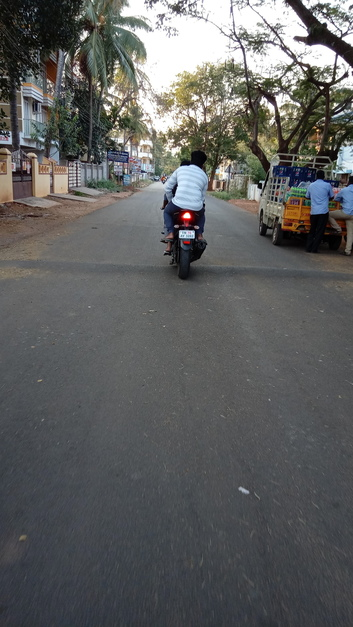bump: (4, 253, 353, 284)
